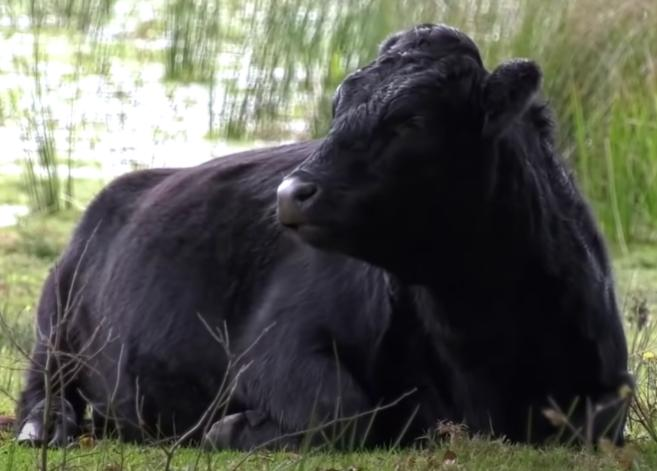cow: (20, 33, 628, 445)
